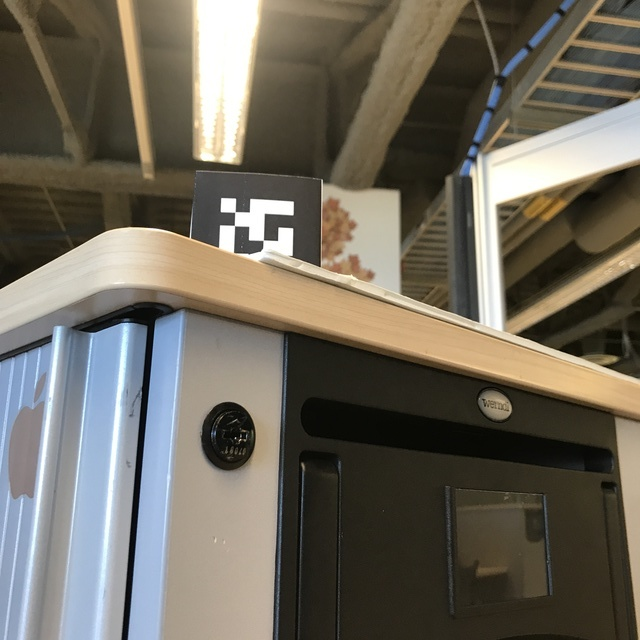ARTag: (188, 170, 323, 281)
